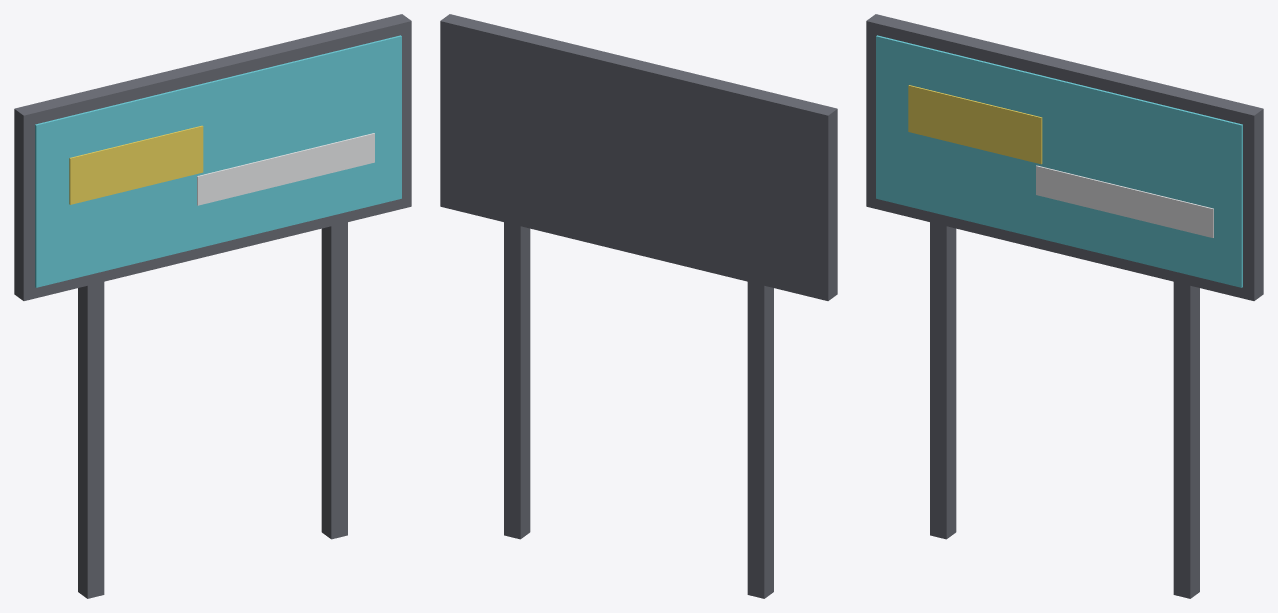
File: billboard.glb
3 renders of one model, left to right at view 1: azimuth 30°, elevation 25°; view 2: azimuth 150°, elevation 25°; view 3: azimuth 330°, elevation 25°, orthographic.
Visible parts, largest first — view 1: billboard; view 2: billboard; view 3: billboard.
Part boxes in pixels (box(x1,y1,x2,y2)): billboard: box(14, 14, 411, 598); billboard: box(440, 14, 837, 598); billboard: box(866, 14, 1263, 598).
Bounding box in the file's own units: 7 × 8.6 × 0.365.
